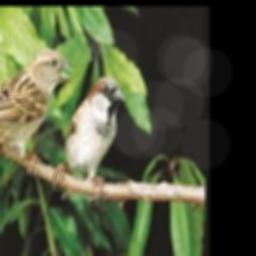Sparrow: (0, 49, 74, 176), (53, 76, 126, 199)
